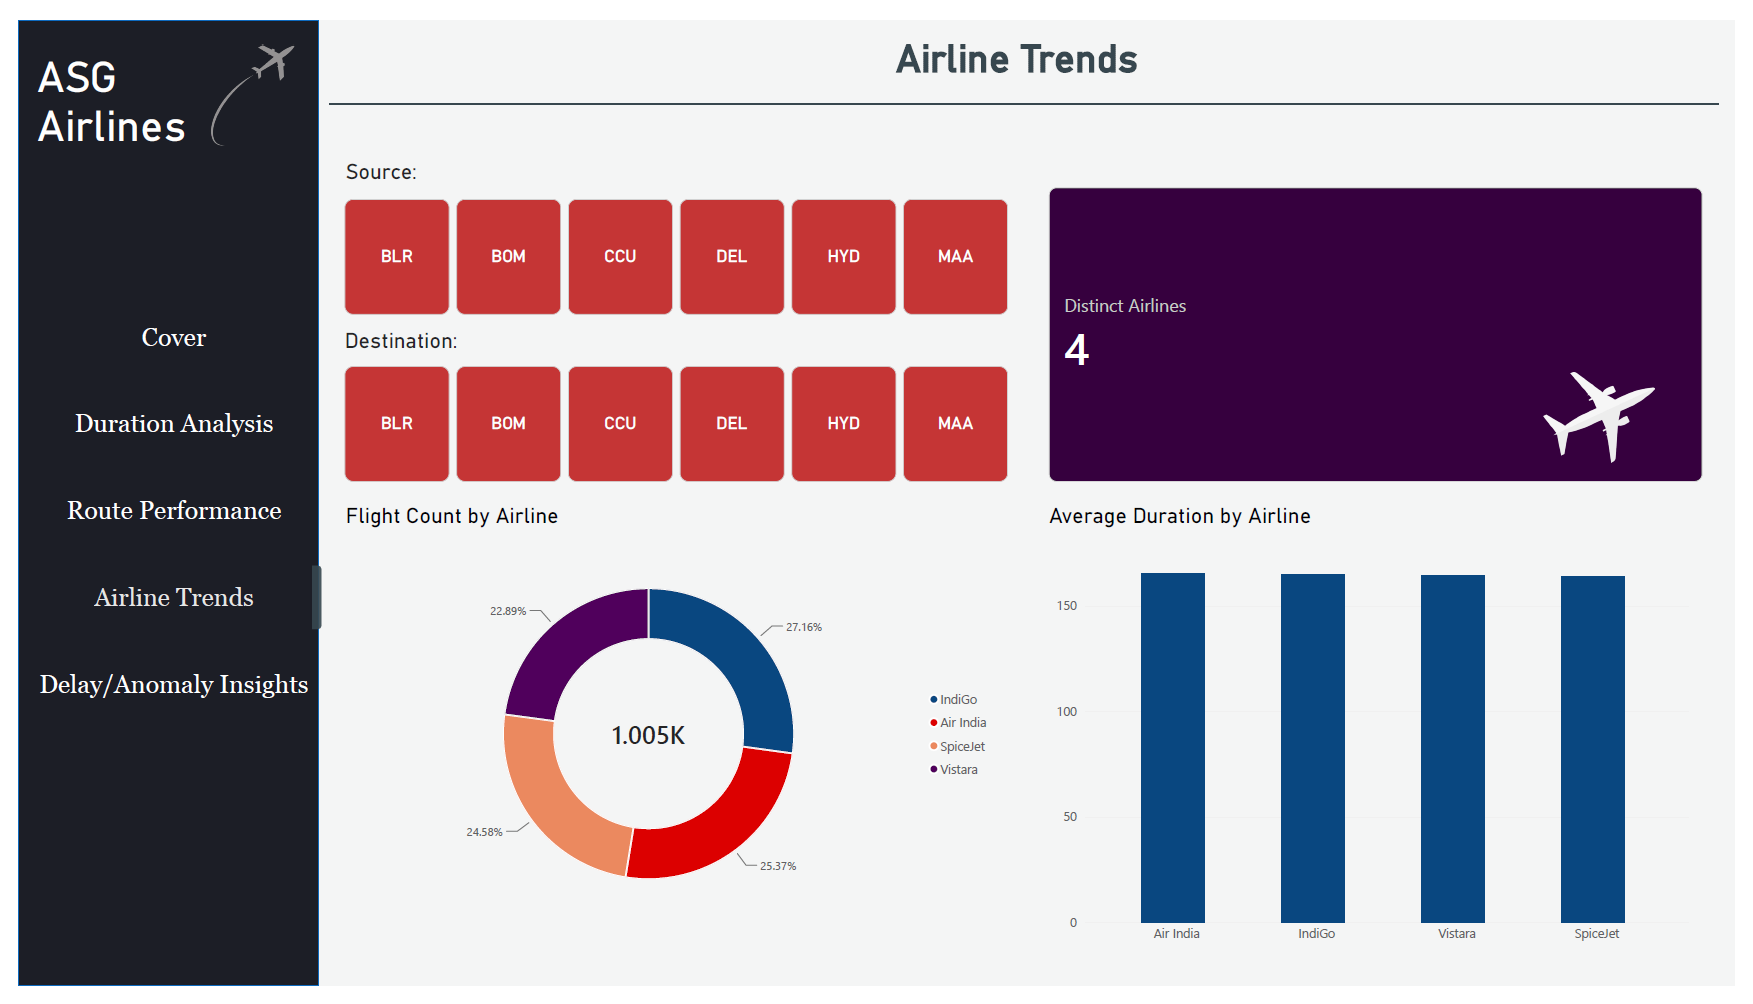

This screenshot's page, from the dashboard's own definition file:
{"tool":"powerbi","page":{"name":"Airline Trends","canvas":[1920,1080],"ordinal":3},"visuals":[{"type":"donutChart","fields":{"Category":["flights_cleaned.airline"],"Y":["CountNonNull(flights_cleaned.flight_id)"]},"box":[375.8,561.3,732.3,475.8],"z":0},{"type":"clusteredColumnChart","fields":{"Category":["flights_cleaned.airline"],"Y":["Avg(flights_cleaned.duration_minutes)"]},"box":[1145.2,561.3,738.7,491.9],"z":1000},{"type":"advancedSlicerVisual","fields":{"Values":["flights_cleaned.source"]},"box":[364.5,200,743.5,129],"z":2000},{"type":"advancedSlicerVisual","fields":{"Values":["flights_cleaned.destination"]},"box":[364.5,387.1,743.5,129],"z":3000},{"type":"cardVisual","fields":{"Data":["Count(flights_cleaned.airline)"]},"box":[1153.2,187.1,730.6,329],"z":4000},{"type":"shape","box":[0,0,335.6,1079.7],"z":5000},{"type":"textbox","box":[543.5,17.7,1146.8,62.9],"z":6000},{"type":"shape","box":[348.4,80.6,1553.2,24.2],"z":7000},{"type":"textbox","box":[366.1,540.3,337.1,59.7],"z":9000},{"type":"textbox","box":[366.1,154.8,375.8,50],"z":10000},{"type":"textbox","box":[364.5,343.5,375.8,50],"z":11000},{"type":"textbox","box":[1153.2,540.3,337.1,59.7],"z":12000},{"type":"image","box":[1679,393.5,179,101.6],"z":13000},{"type":"textbox","box":[21,35.5,204.8,116.1],"z":14000},{"type":"image","box":[193.5,27.4,135.5,112.9],"z":15000},{"type":"pageNavigator","box":[0,309.7,348.4,535.5],"z":15001}]}

Visuals, with their boxes in screenshot pixels (x1, y1, x2, y2), scaled from the page's 1920x1080 canvas onto the 1753x1004 screenshot:
donutChart - flights_cleaned.airline x CountNonNull(flights_cleaned.flight_id): {"left": 343, "top": 522, "right": 1012, "bottom": 964}
clusteredColumnChart - flights_cleaned.airline x Avg(flights_cleaned.duration_minutes): {"left": 1046, "top": 522, "right": 1720, "bottom": 979}
advancedSlicerVisual - flights_cleaned.source: {"left": 333, "top": 186, "right": 1012, "bottom": 306}
advancedSlicerVisual - flights_cleaned.destination: {"left": 333, "top": 360, "right": 1012, "bottom": 480}
cardVisual - Count(flights_cleaned.airline): {"left": 1053, "top": 174, "right": 1720, "bottom": 480}
shape: {"left": 0, "top": 0, "right": 306, "bottom": 1003}
textbox: {"left": 496, "top": 16, "right": 1543, "bottom": 75}
shape: {"left": 318, "top": 75, "right": 1736, "bottom": 97}
textbox: {"left": 334, "top": 502, "right": 642, "bottom": 558}
textbox: {"left": 334, "top": 144, "right": 677, "bottom": 190}
textbox: {"left": 333, "top": 319, "right": 676, "bottom": 366}
textbox: {"left": 1053, "top": 502, "right": 1361, "bottom": 558}
image: {"left": 1533, "top": 366, "right": 1696, "bottom": 460}
textbox: {"left": 19, "top": 33, "right": 206, "bottom": 141}
image: {"left": 177, "top": 25, "right": 300, "bottom": 130}
pageNavigator: {"left": 0, "top": 288, "right": 318, "bottom": 786}
